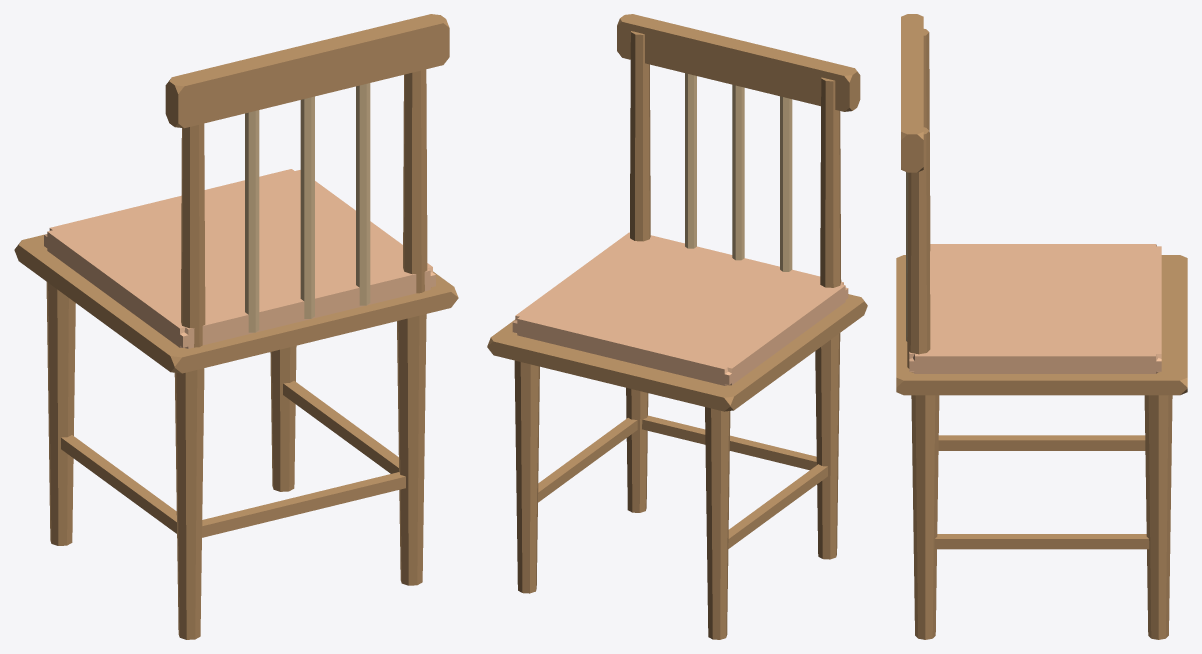
File: Furniture_KitchenChair.glb
3 renders of one model, left to right at view 1: azimuth 30°, elevation 25°; view 2: azimuth 150°, elevation 25°; view 3: azimuth 270°, elevation 25°, orthographic. The views are drawn at different scales.
Visible parts, largest first — view 1: Furniture_KitchenChair; view 2: Furniture_KitchenChair; view 3: Furniture_KitchenChair.
Part boxes in pixels (x1,y1,x2,y2): Furniture_KitchenChair: [14, 14, 458, 639]; Furniture_KitchenChair: [487, 14, 867, 639]; Furniture_KitchenChair: [896, 14, 1187, 639].
Size of the model in its own units: 0.46 by 0.8725 by 0.45.
